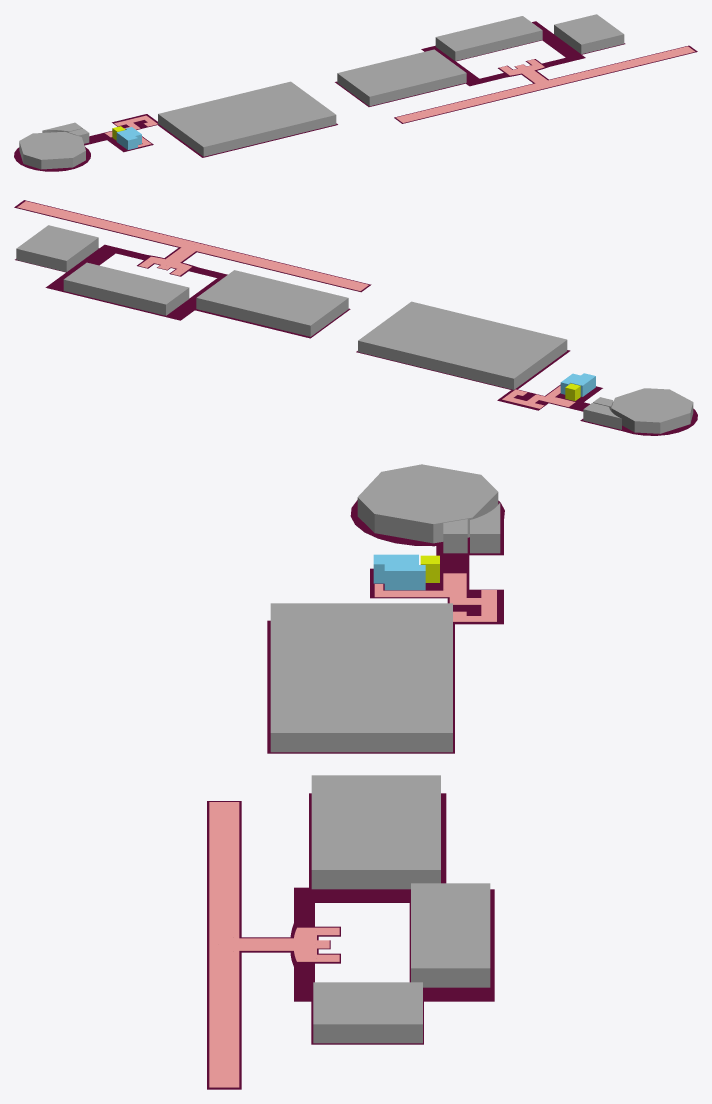
Rendered from njc-b1-v4-28-4.glb.
3 renders of one model, top to bottom at view 1: azimuth 30°, elevation 25°; view 2: azimuth 150°, elevation 25°; view 3: azimuth 270°, elevation 25°, orthographic. The views are drawn at different scales.
Parts seen in each view (by area): view 1: None, Base, Foot, Mtoilet; view 2: None, Base, Foot, Mtoilet; view 3: None, Foot, Base, Mtoilet.
Boxes of the visible parts, x1=… form: None: x1=19, y1=14, x2=624, y2=169; Base: x1=14, y1=21, x2=697, y2=171; Foot: x1=105, y1=46, x2=694, y2=147; Mtoilet: x1=116, y1=127, x2=141, y2=149; None: x1=16, y1=225, x2=693, y2=433; Base: x1=14, y1=200, x2=697, y2=435; Foot: x1=17, y1=201, x2=575, y2=408; Mtoilet: x1=560, y1=373, x2=595, y2=396; None: x1=270, y1=464, x2=500, y2=1043; Foot: x1=209, y1=573, x2=496, y2=1087; Base: x1=207, y1=500, x2=504, y2=1089; Mtoilet: x1=373, y1=554, x2=425, y2=590.
Size of what is drawn, in the model's own units: 13.45 by 0.2 by 2.78.
